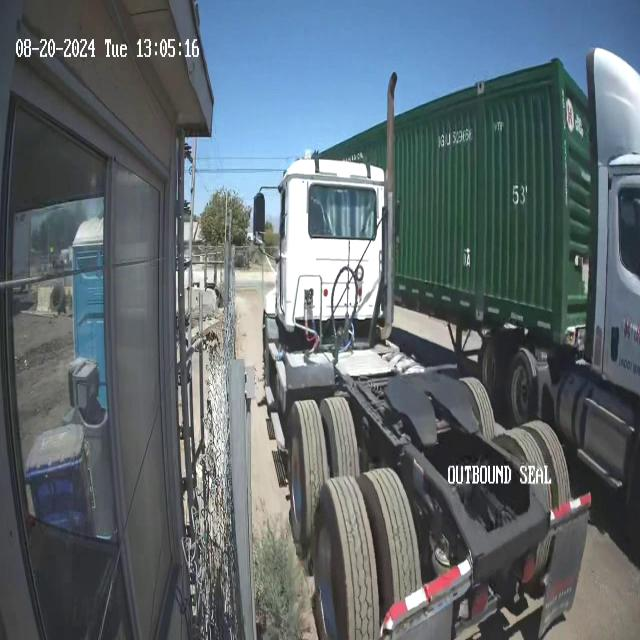CONTAINER: (314, 56, 594, 350)
